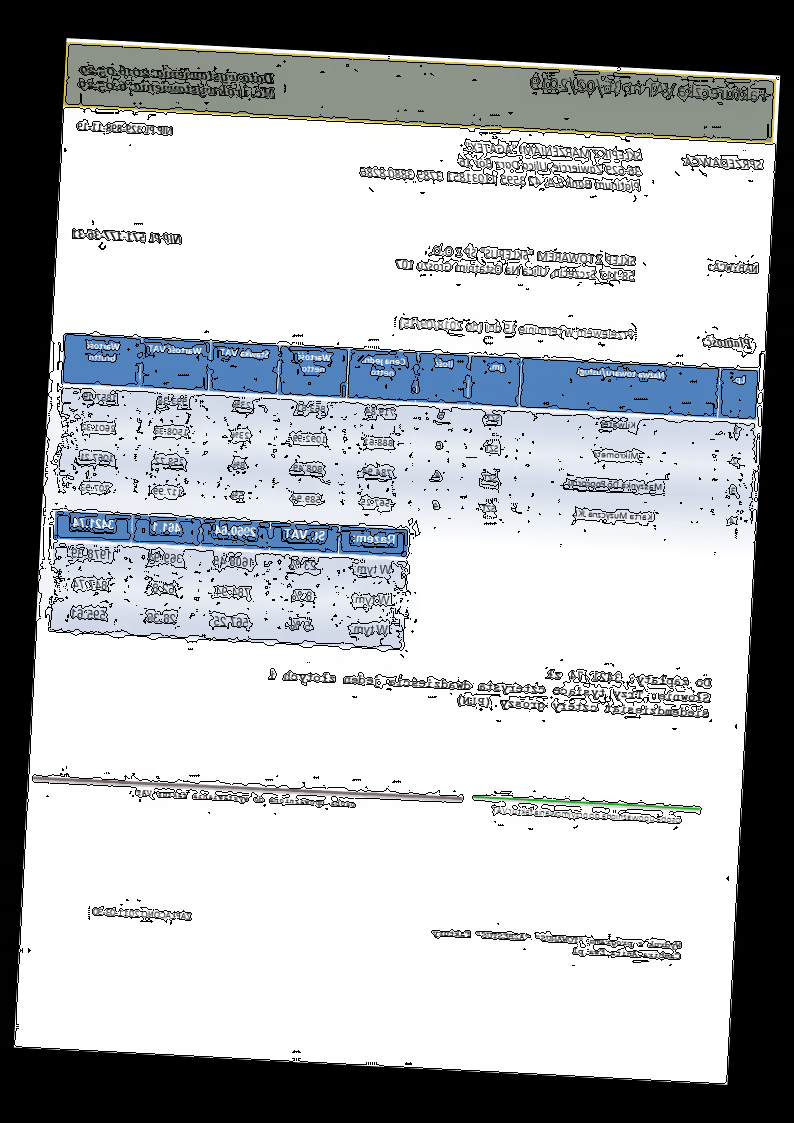Table: (56, 333, 761, 545), (49, 510, 410, 651)
TextBox: (263, 651, 715, 723), (357, 132, 647, 199), (393, 241, 639, 285), (427, 927, 685, 965), (75, 59, 280, 105), (528, 70, 771, 106), (397, 316, 636, 344), (134, 786, 358, 810), (490, 804, 685, 827), (70, 226, 184, 247), (77, 117, 177, 140), (680, 151, 767, 175), (90, 904, 194, 923), (707, 258, 762, 277), (701, 333, 755, 351)
